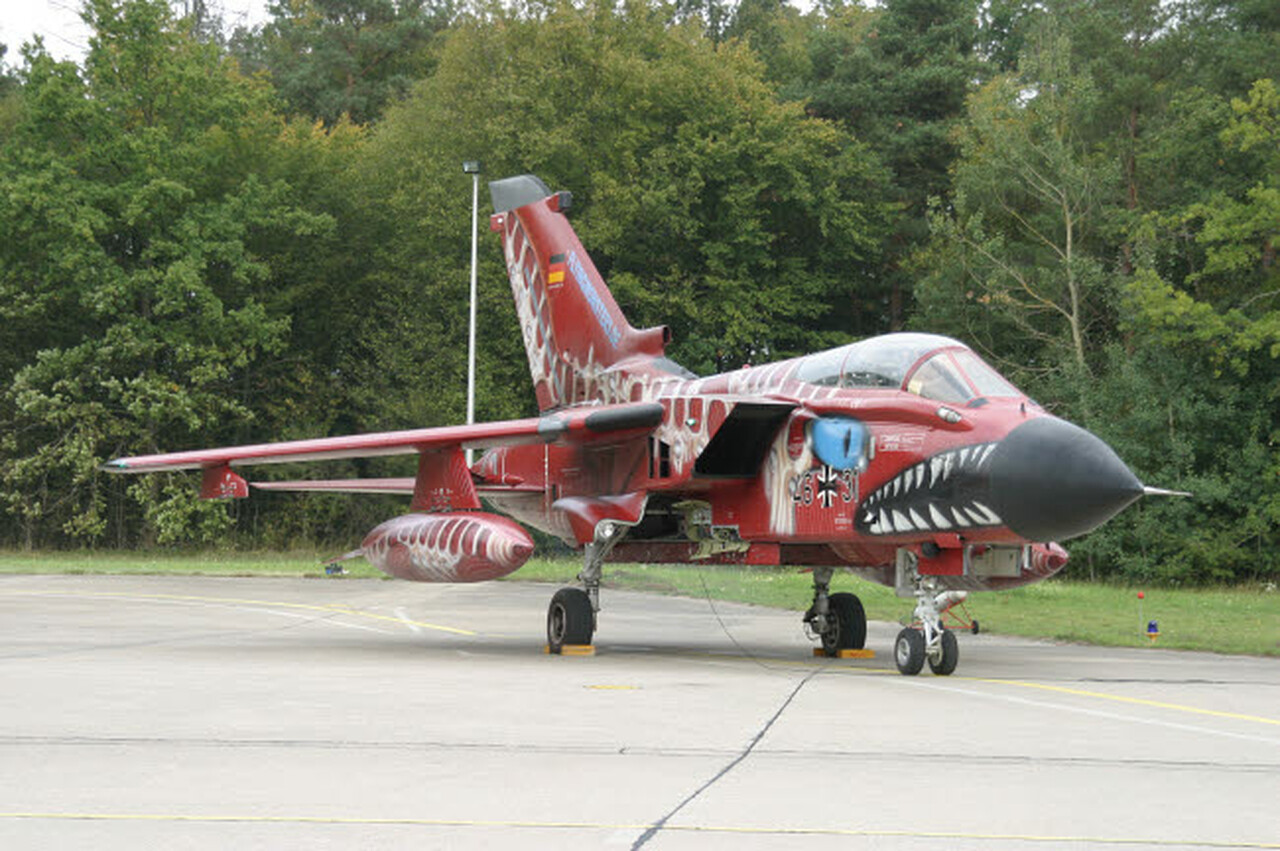Tornado: (96, 173, 1194, 676)
